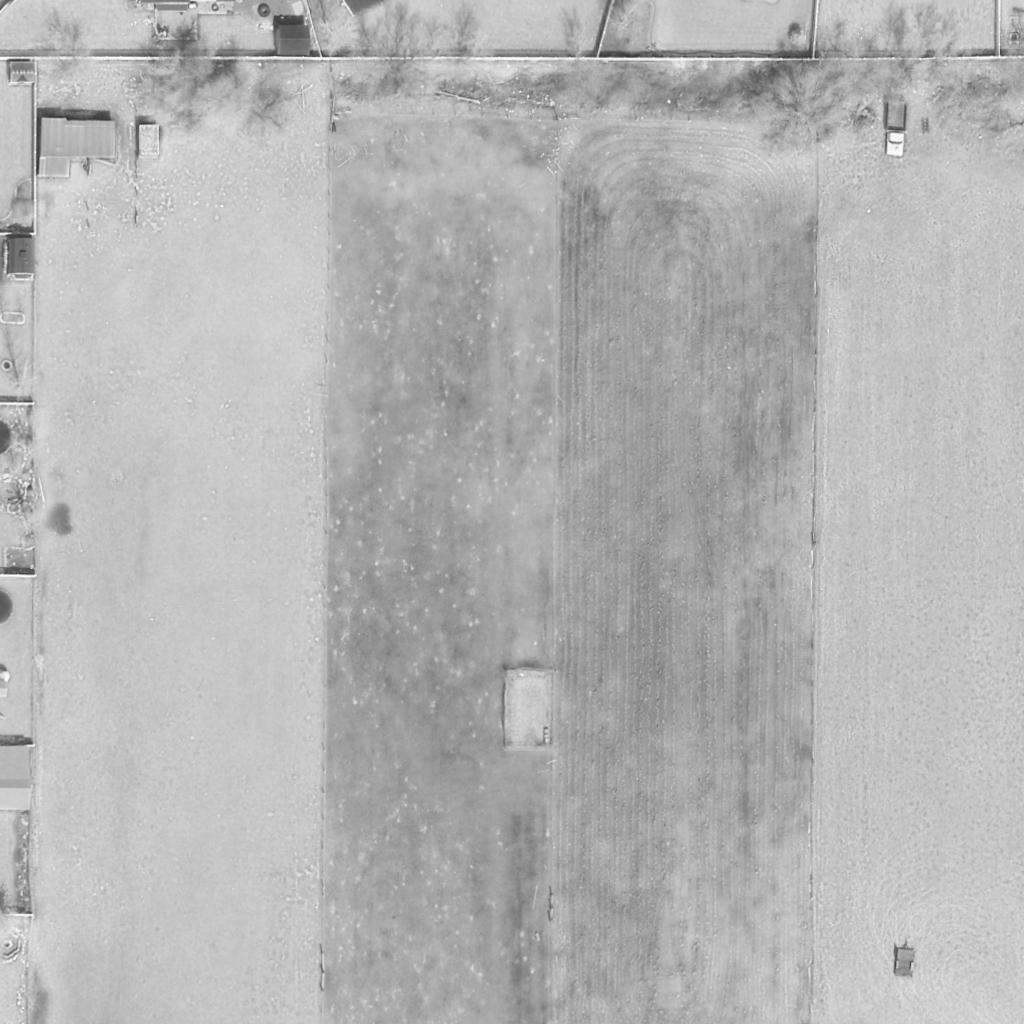vehicle: (883, 102, 907, 158)
